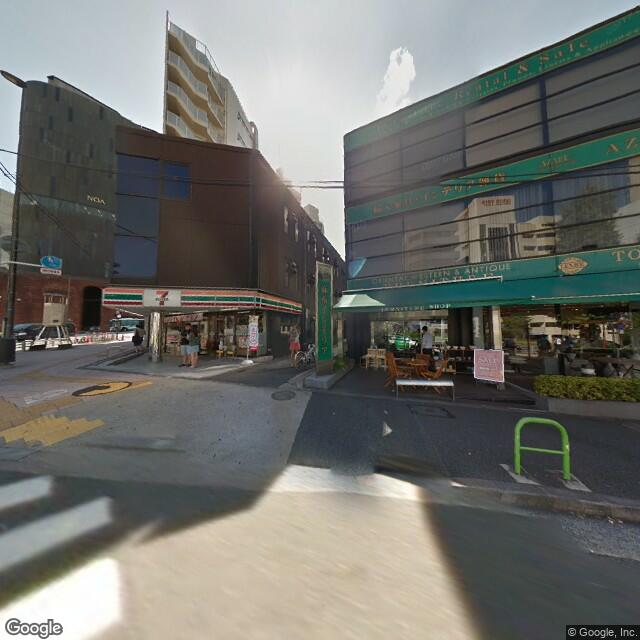7-eleven: (99, 282, 307, 317)
